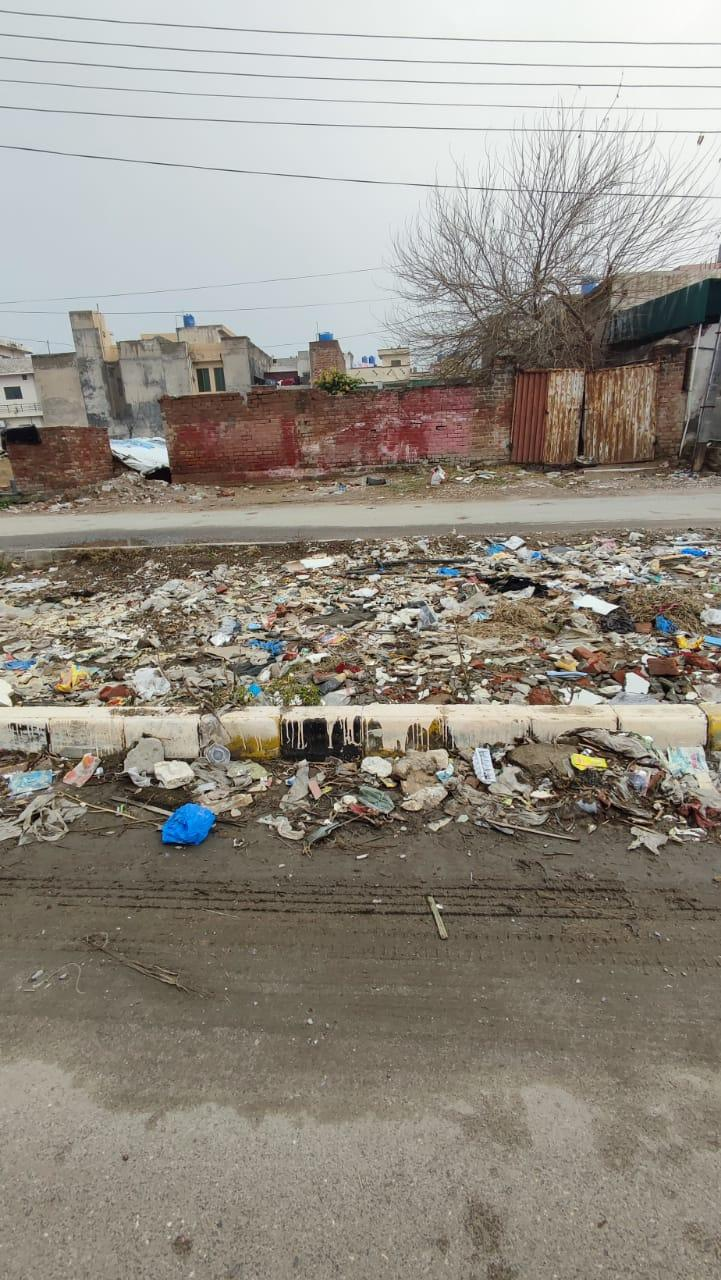garbage: (3, 534, 721, 863)
